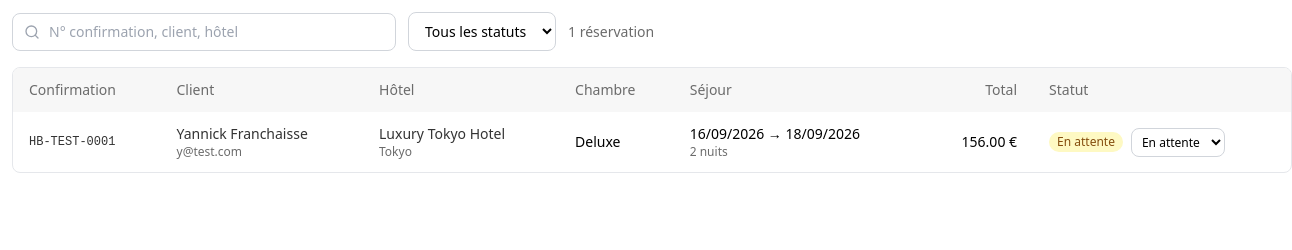
Test: ReservationsTable › revient au statut précédent si le PUT échoue
The width and height of the screenshot is (1292, 250).
Expected: the text "HB-TEST-0001" is shown, [13, 112, 160, 172]
Select "Confirmée" in the dropdown named "changer le statut": (1178, 142) [1131, 128, 1225, 156]
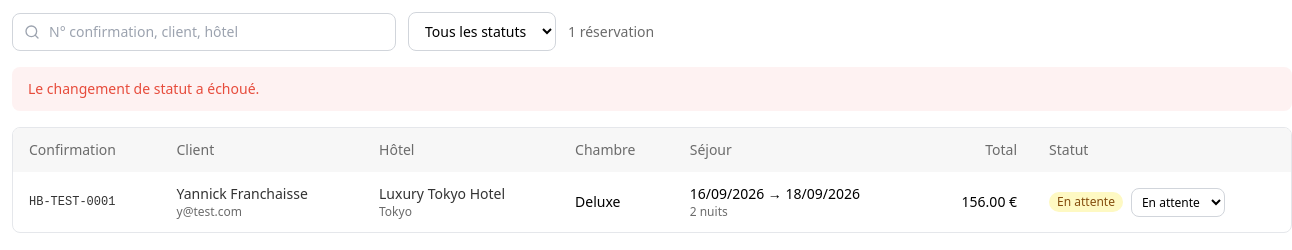
Expected: the text "En attente" is shown, [1049, 192, 1123, 212]
Now the message shows "a échoué", box [28, 79, 259, 98]
